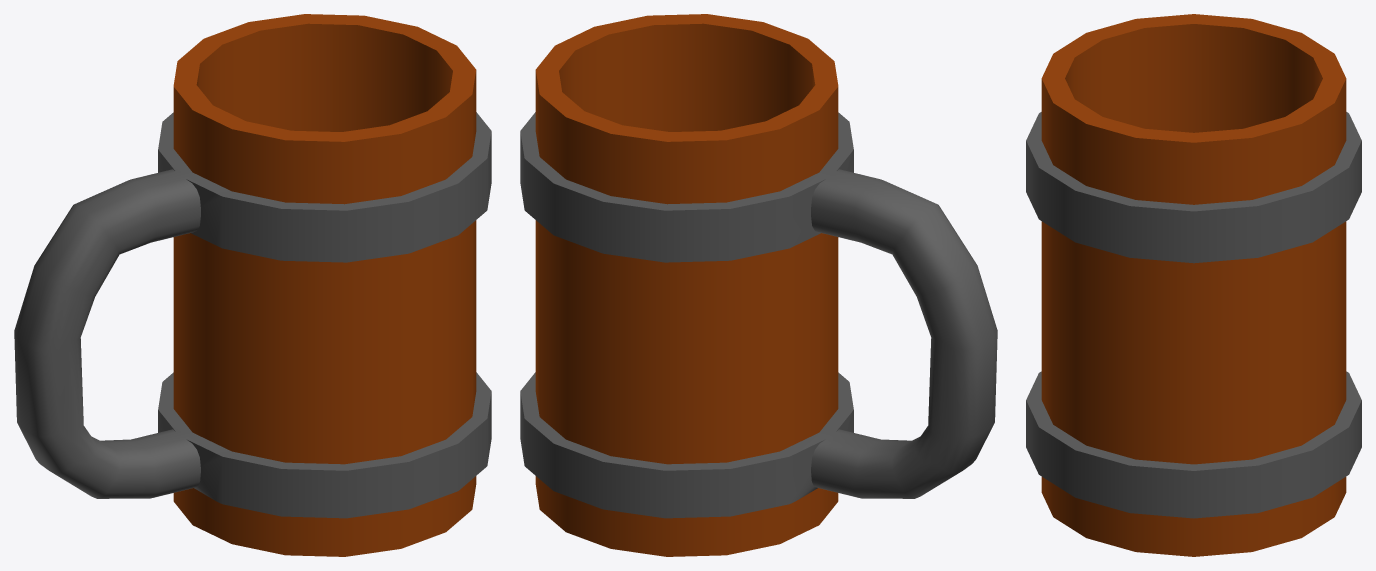
The model's file is Jarron de cerveza.fbx.
3 views of the same model, side by side, from view 1: azimuth 30°, elevation 25°; view 2: azimuth 150°, elevation 25°; view 3: azimuth 270°, elevation 25° (orthographic).
Visible parts, largest first — view 1: Cylinder001; view 2: Cylinder001; view 3: Cylinder001.
Boxes of the visible parts, x1,y1,x2,y2 form: Cylinder001: (14, 14, 491, 556); Cylinder001: (520, 14, 997, 556); Cylinder001: (1026, 14, 1361, 556).
Size of the model in its own units: 33.87 by 30 by 22.04.
